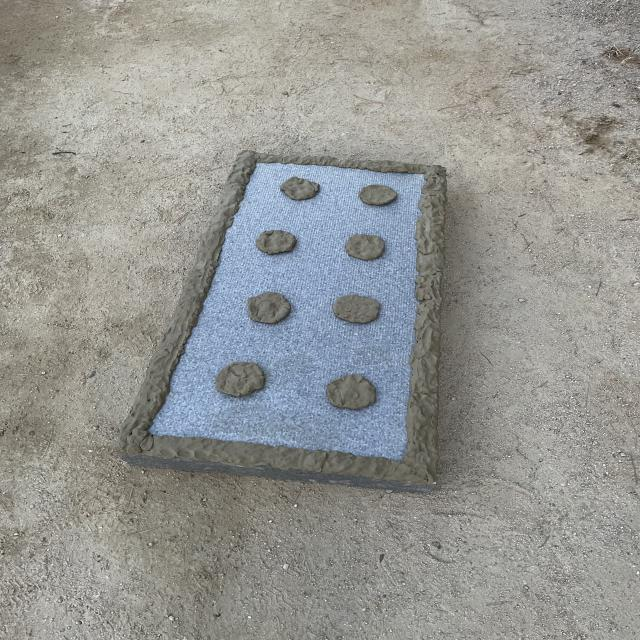dab: (327, 374, 377, 410), (217, 362, 265, 396), (248, 291, 292, 324), (333, 294, 380, 324), (255, 230, 297, 255), (345, 234, 385, 260), (280, 176, 320, 201), (358, 185, 397, 206)
ribbon: (117, 151, 447, 491)
